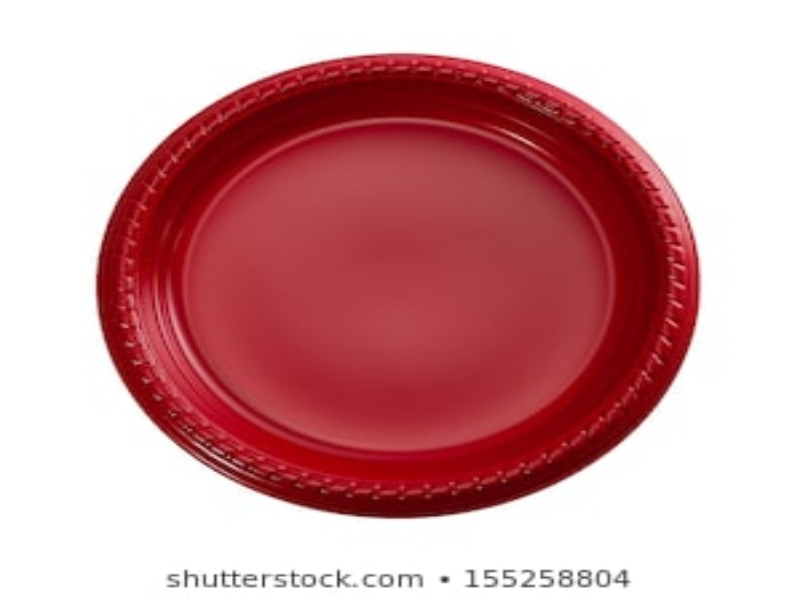plastic-plate: (89, 53, 701, 519)
